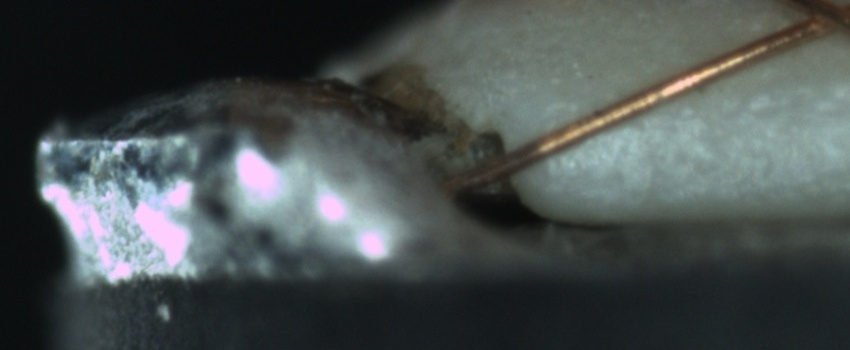CL: (772, 0, 849, 45)
